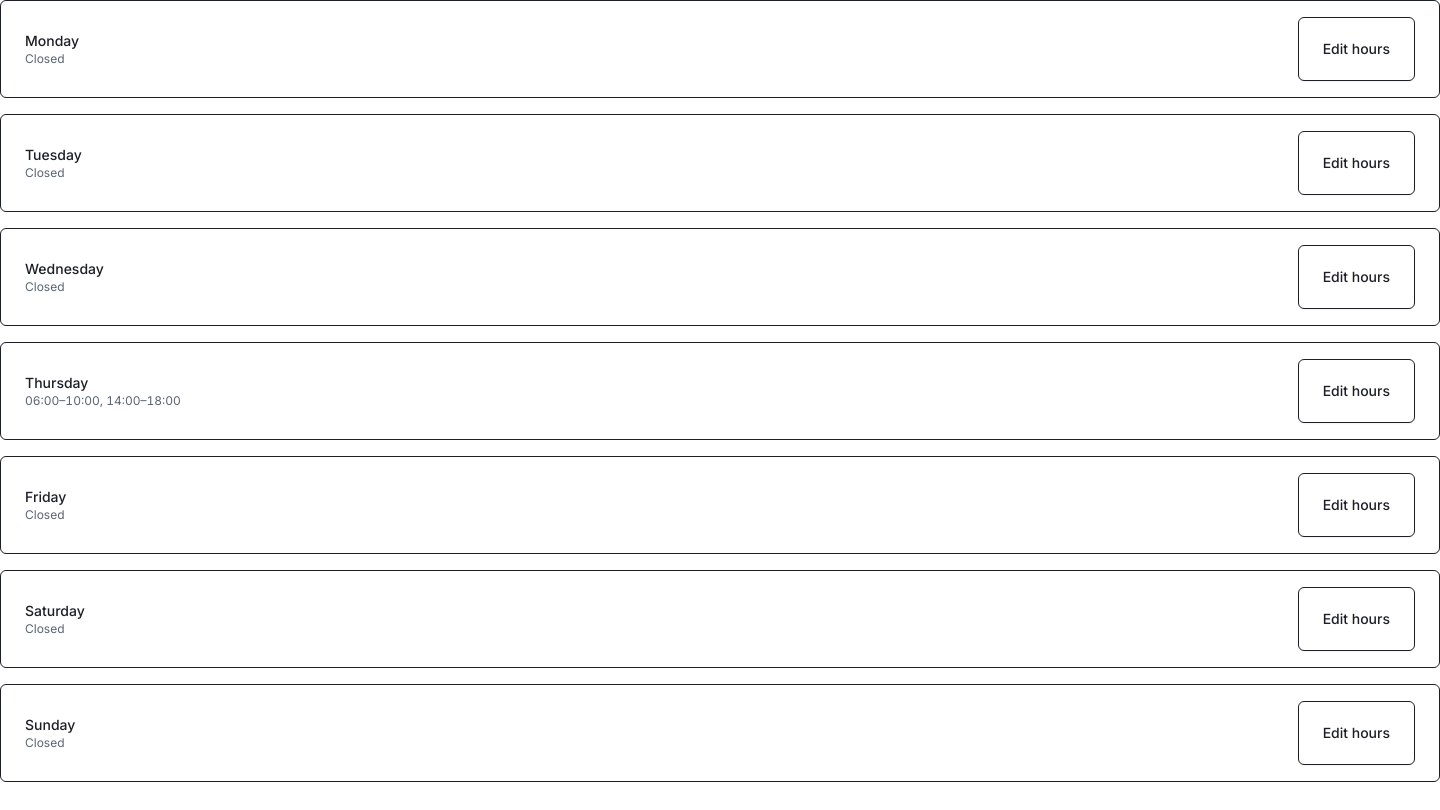
it: WeeklyScheduleEditor › Remove range button removes the correct row
Click the button with aria-label "edit thursday hours" at (1356, 391), box left=1298, top=359, right=1415, bottom=423
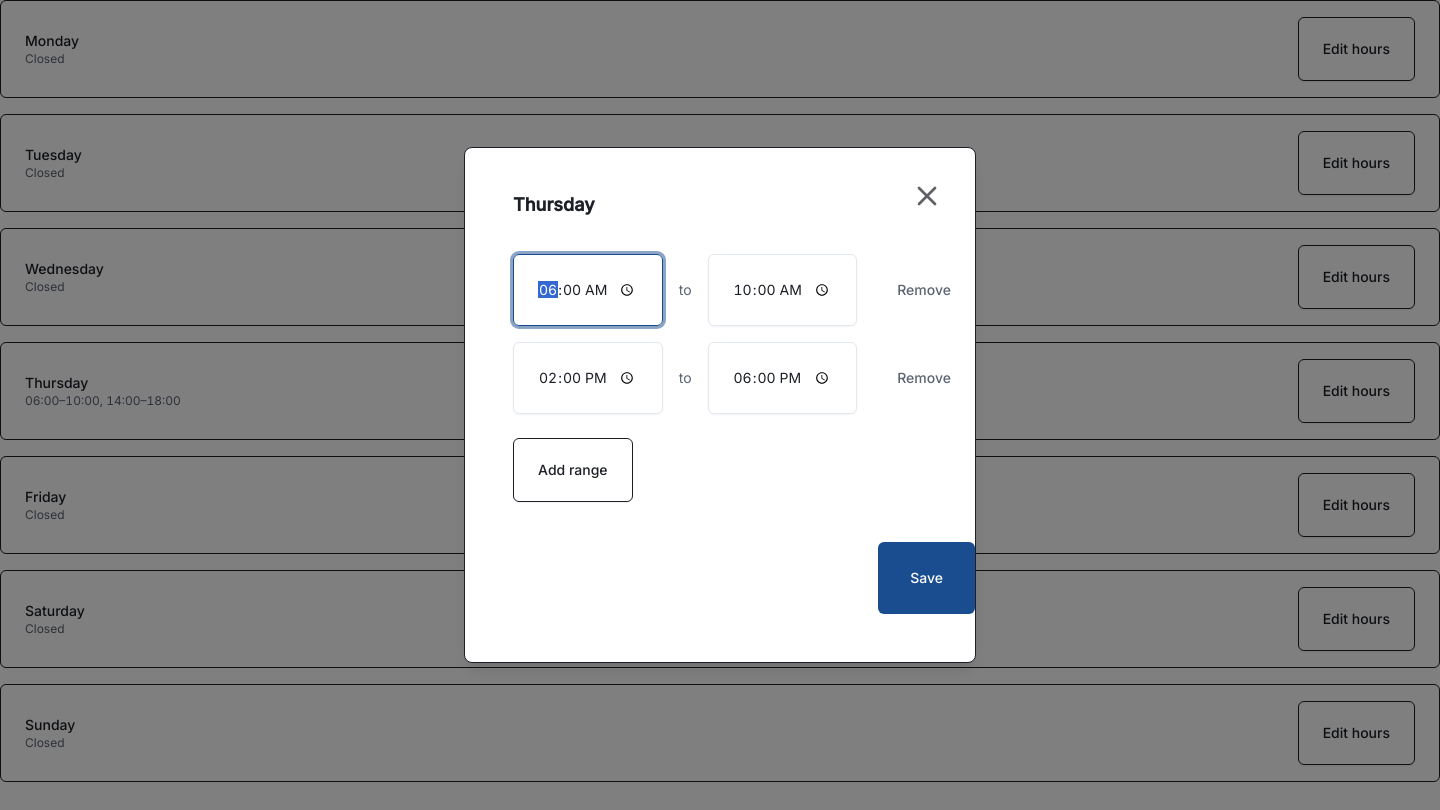
expect the number of buttons named "remove range" is 2: met
Click the button with aria-label "remove range" at (924, 290), box left=873, top=258, right=975, bottom=322
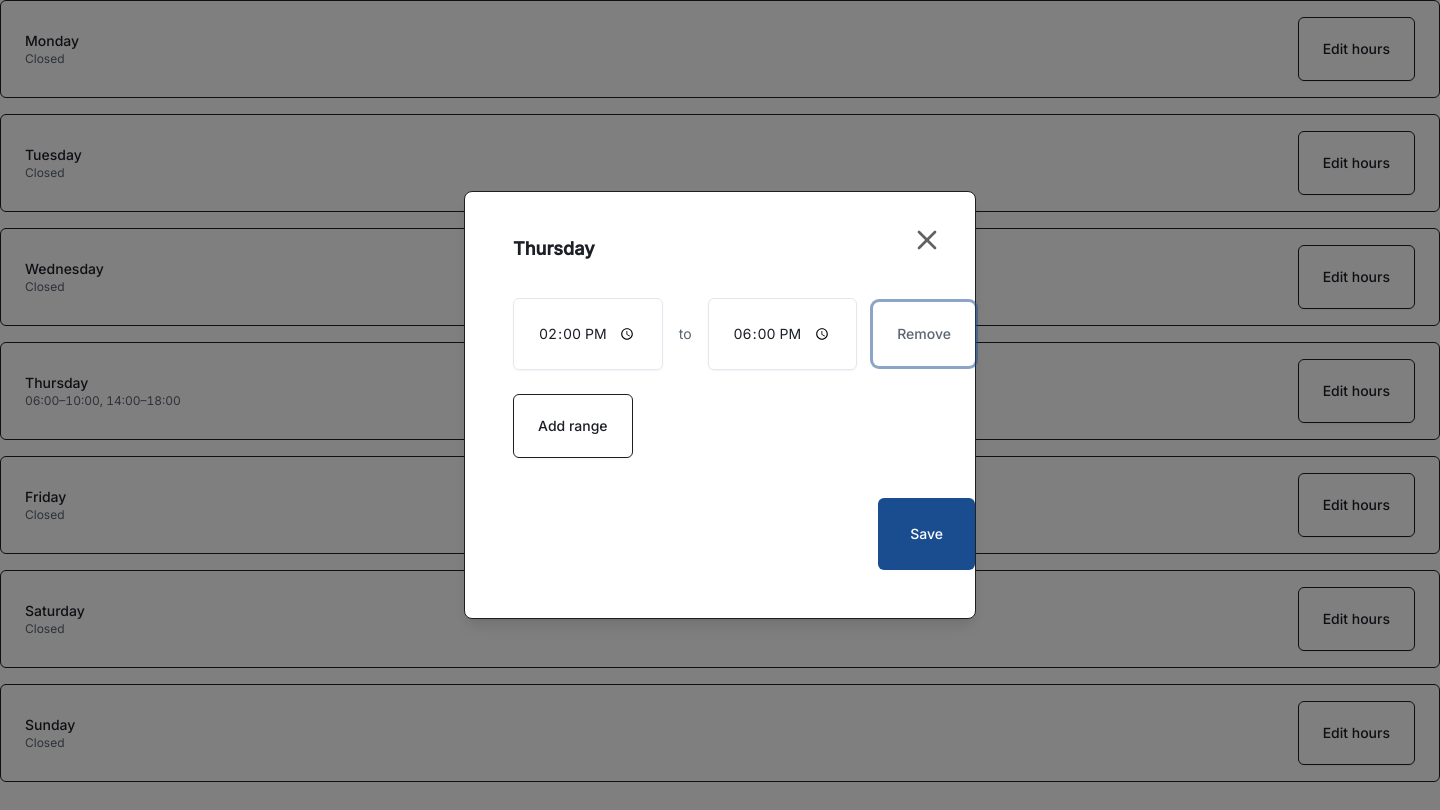
expect the number of time fields named "start" is 1: met, box left=513, top=298, right=663, bottom=370
expect the time field named "start" holds "14:00": met, box left=513, top=298, right=663, bottom=370
